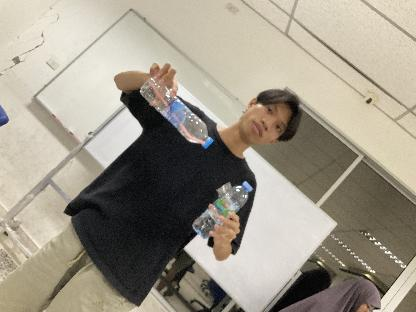Plastic Bottle: (139, 74, 213, 150), (190, 179, 252, 239)
